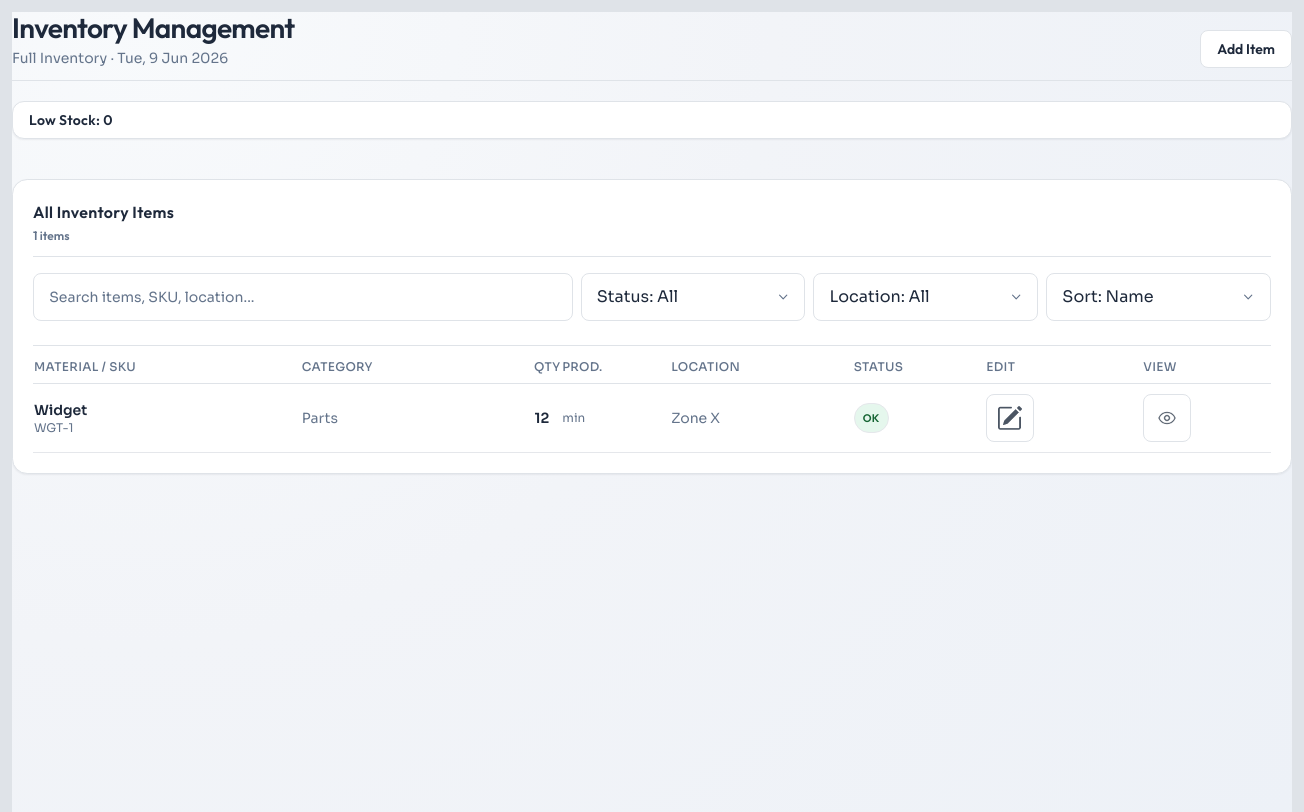
Scenario: InventoryPage › renders inventory rows from overview and expands inline materials
expect the text "Widget" is shown: met, box [34,401,87,419]
expect the text "Zone X" is shown: met, box [670,384,853,452]
Click the button named "View Widget" at (1167, 418), box [1143,394,1191,442]
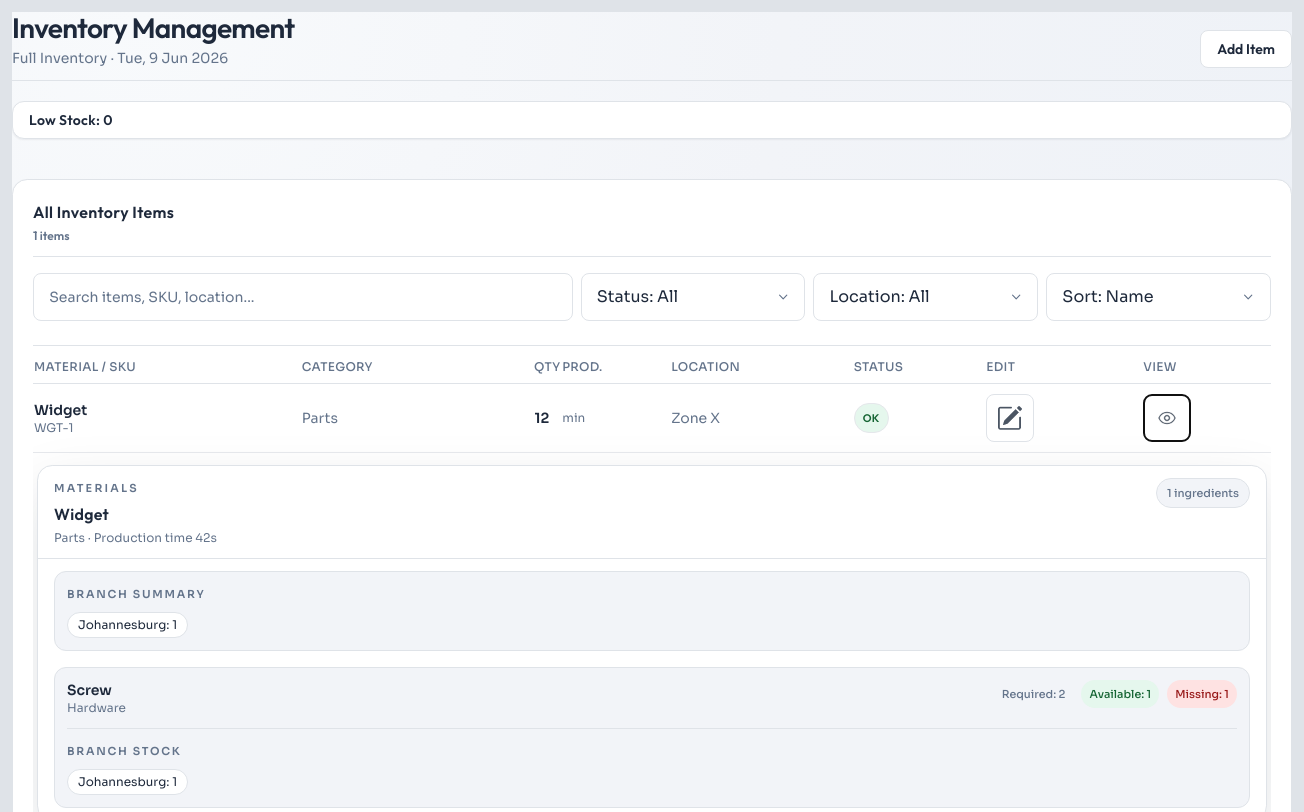
expect the text "Materials" is shown: met, box [54,481,139,495]
expect the text "Screw" is shown: met, box [67,681,112,699]
